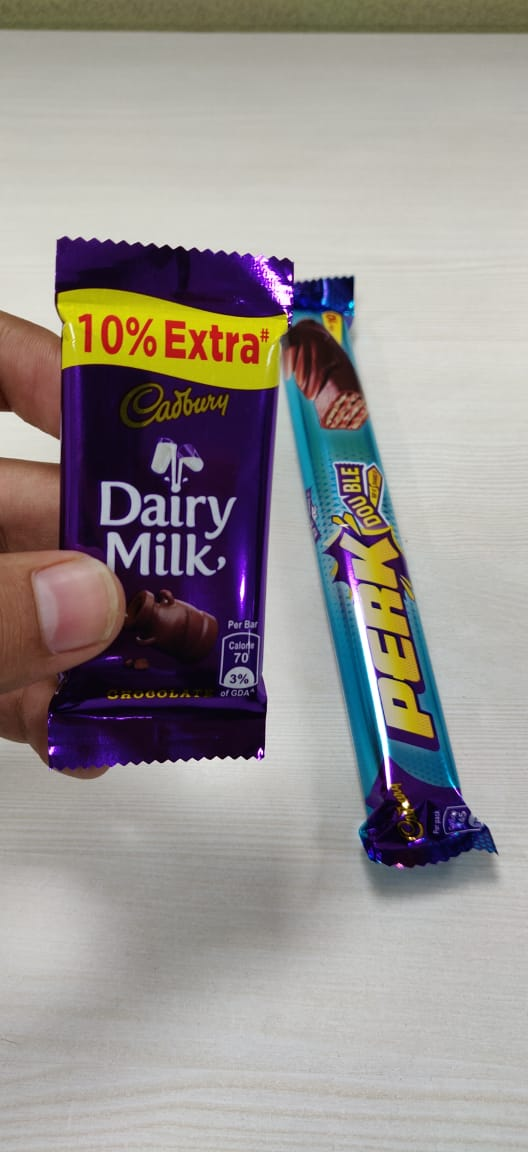dairy milk: (24, 218, 299, 791)
perk: (284, 255, 512, 909)
